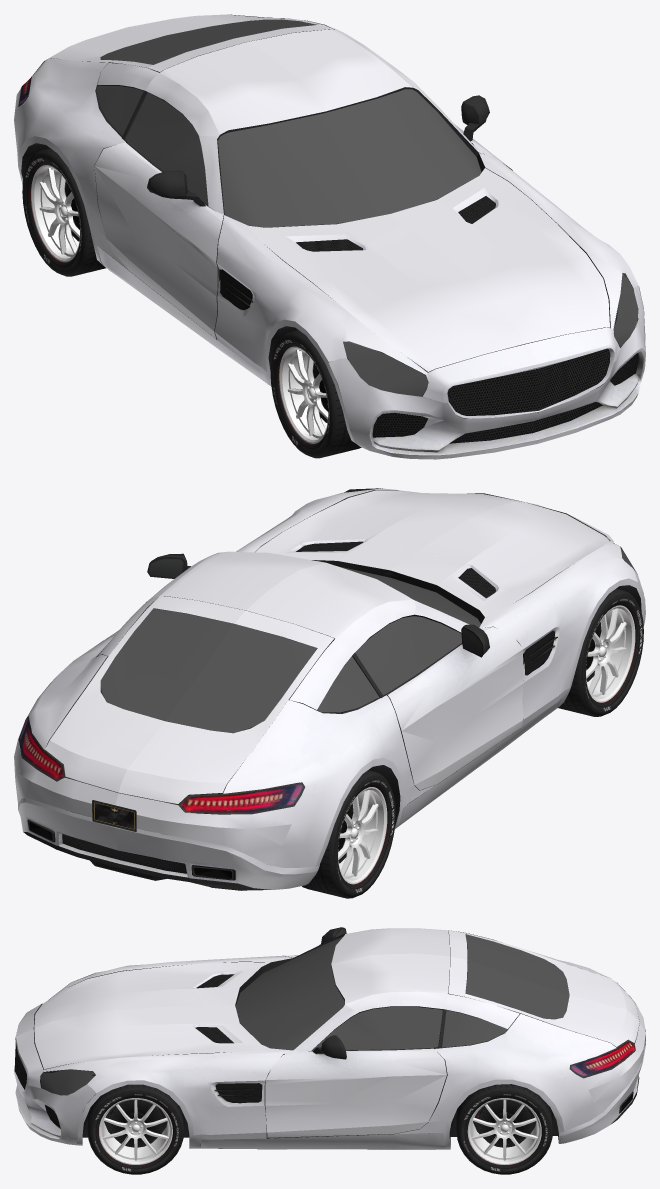
The model's file is AMG GX.fbx.
3 renders of one model, top to bottom at view 1: azimuth 30°, elevation 25°; view 2: azimuth 150°, elevation 25°; view 3: azimuth 270°, elevation 25°, orthographic. The views are drawn at different scales.
Parts seen in each view (by area): view 1: Sport_05_Hood, Sport_05_Body, Sport_05_Window_F, Sport_05_Roof, Sport_05_Bumper_F_1, Sport_05_Door_R, Sport_05_Trunk, Sport_05_Window_RF, Wheel_Tire_R_1, Wheel_Disk_09_R_3, Wheel_Disk_09_R_1, Sport_05_Window_B (+6 smaller); view 2: Sport_05_Body, Sport_05_Hood, Sport_05_Trunk, Sport_05_Window_B, Sport_05_Roof, Sport_05_Door_R, Sport_05_Bumper_B_2, Sport_05_Window_RF, Sport_05_Tailights, Wheel_Tire_R_3, Wheel_Disk_09_R_3, Wheel_Disk_09_R_1 (+6 smaller); view 3: Sport_05_Body, Sport_05_Hood, Sport_05_Door_L, Sport_05_Roof, Sport_05_Window_F, Sport_05_Trunk, Sport_05_Window_B, Sport_05_Window_LF, Wheel_Tire_R_2, Sport_05_SidePanel_1, Wheel_Tire_R, Sport_05_Bumper_F_1 (+8 smaller).
Part boxes in pixels (x1,y1,x2,y2): Sport_05_Hood: (248,168,610,372); Sport_05_Body: (14,14,645,443); Sport_05_Window_F: (218,89,481,227); Sport_05_Roof: (97,20,478,214); Sport_05_Bumper_F_1: (329,287,645,459); Sport_05_Door_R: (94,142,223,338); Sport_05_Trunk: (45,14,334,72); Sport_05_Window_RF: (125,92,208,204); Wheel_Tire_R_1: (270,330,361,458); Wheel_Disk_09_R_3: (31,165,80,262); Wheel_Disk_09_R_1: (279,346,328,443); Sport_05_Window_B: (100,19,316,64); Sport_05_Body: (14,488,645,890); Sport_05_Hood: (255,490,609,616); Sport_05_Trunk: (45,596,334,803); Sport_05_Window_B: (100,608,316,732); Sport_05_Roof: (97,551,468,709); Sport_05_Door_R: (386,624,523,790); Sport_05_Bumper_B_2: (18,797,319,890); Sport_05_Window_RF: (355,616,461,695); Sport_05_Tailights: (18,716,304,814); Wheel_Tire_R_3: (302,770,395,898); Wheel_Disk_09_R_3: (338,787,387,884); Wheel_Disk_09_R_1: (586,605,635,702); Sport_05_Body: (14,950,645,1149); Sport_05_Hood: (34,962,270,1069); Sport_05_Door_L: (265,1035,447,1137); Sport_05_Roof: (293,928,519,1051); Sport_05_Window_F: (235,936,344,1050); Sport_05_Trunk: (448,930,639,1047); Sport_05_Window_B: (465,934,569,1018); Sport_05_Window_LF: (312,1007,442,1050); Wheel_Tire_R_2: (456,1084,552,1174); Sport_05_SidePanel_1: (200,1133,443,1149); Wheel_Tire_R: (87,1084,184,1174); Sport_05_Bumper_F_1: (15,1084,96,1145).
Bounding box in the file's own units: 317 × 200 × 692.
